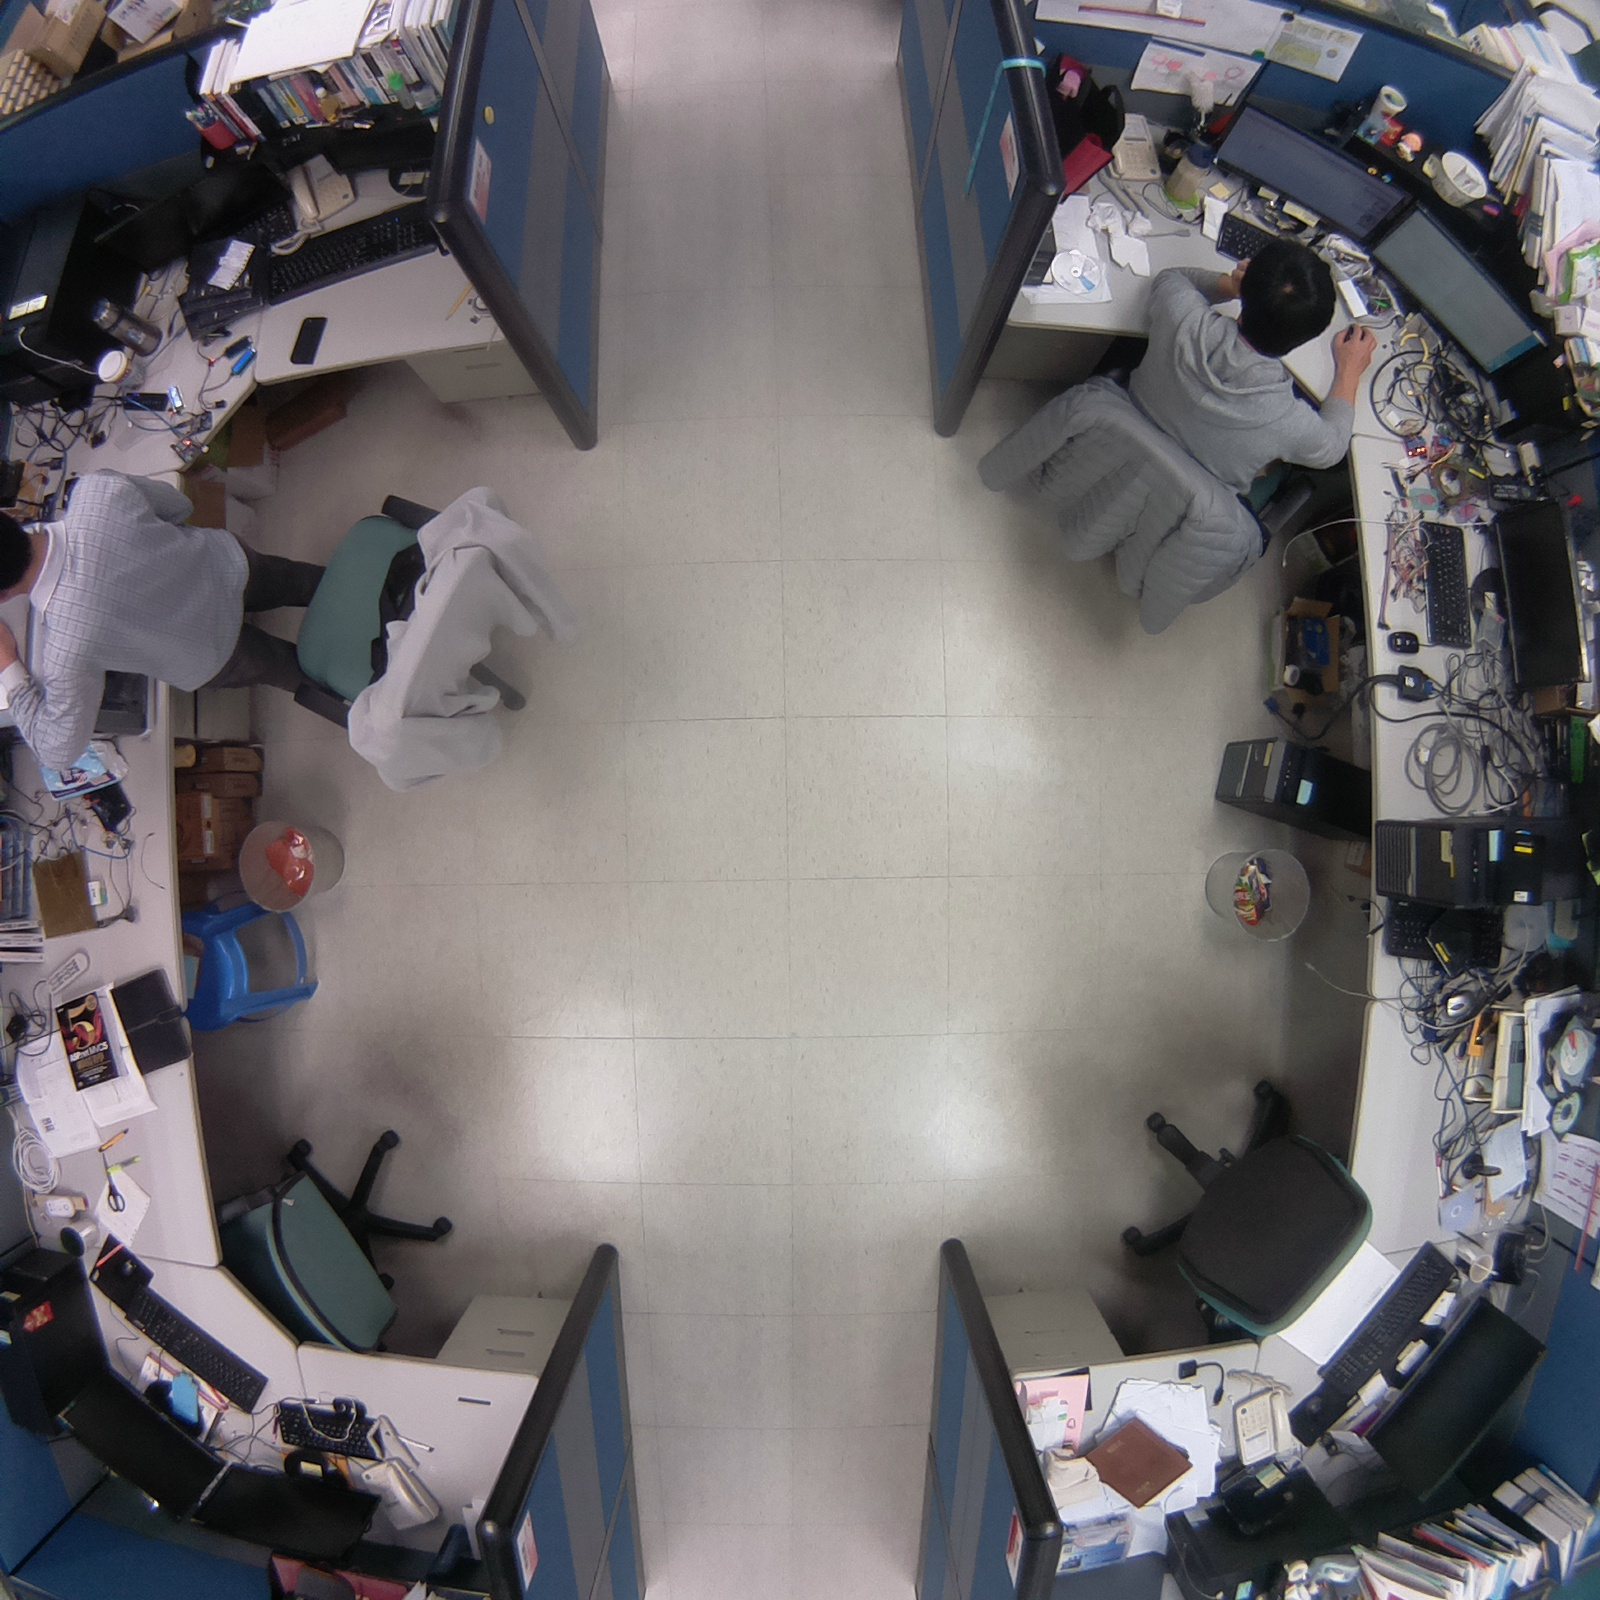chair: (948, 229, 1402, 653), (265, 475, 608, 812), (1092, 1053, 1389, 1361), (199, 1109, 478, 1366)
standing: (1, 440, 352, 785)
